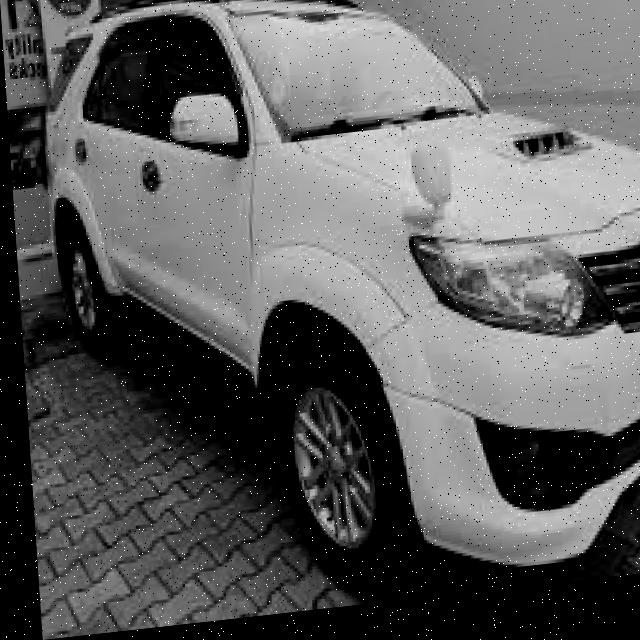car: (37, 0, 640, 613)
